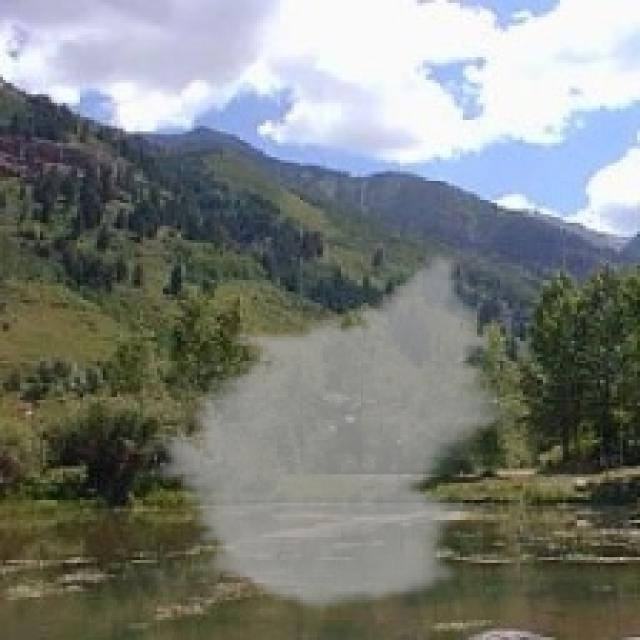smoke: (149, 252, 517, 614)
